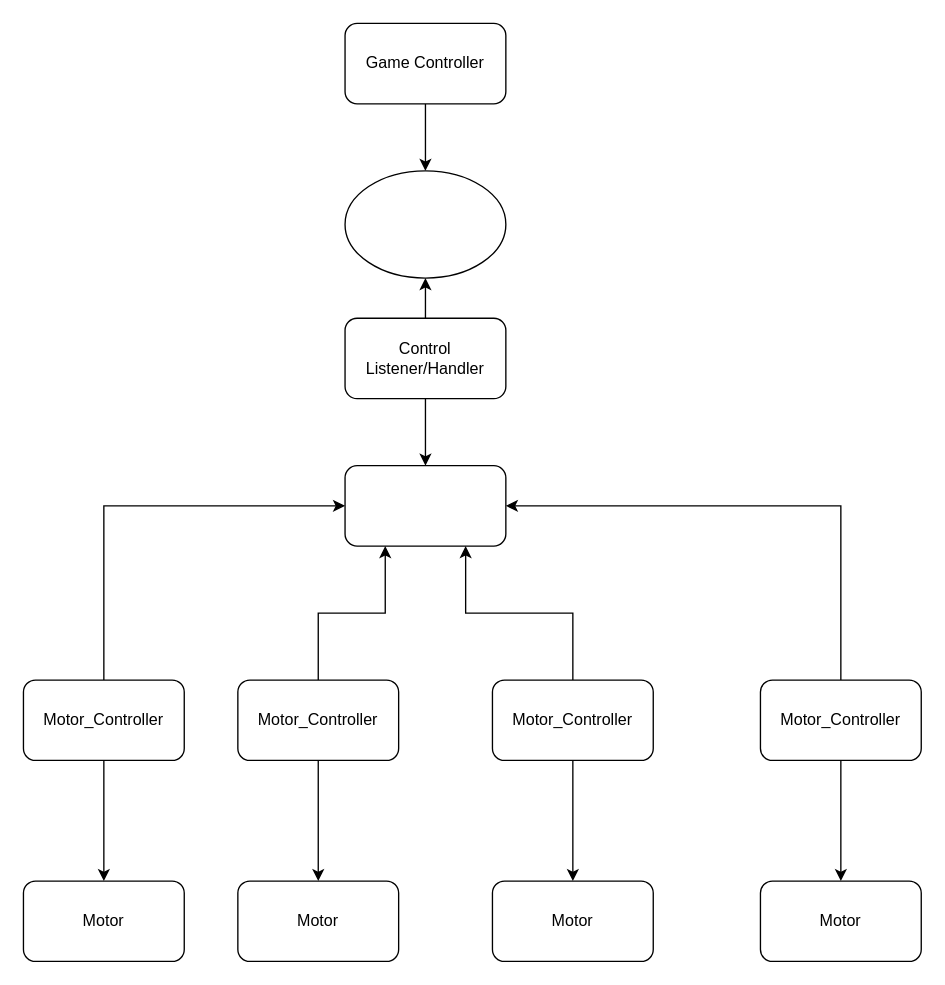
Image size: 945x985. Some labels were removed from this diagram. The centre of each missing label's shape, as x and y in pixels:
"Controller Meta Data Topic" belongs at point 425,505.
"Joy Topic" belongs at point 425,224.
